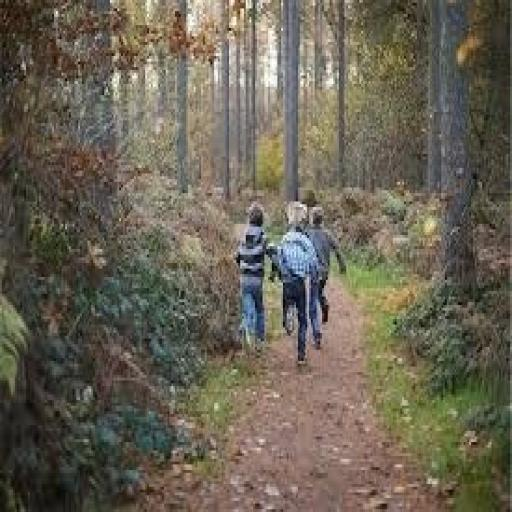running: (231, 193, 348, 369), (270, 199, 326, 369), (231, 199, 279, 355)
